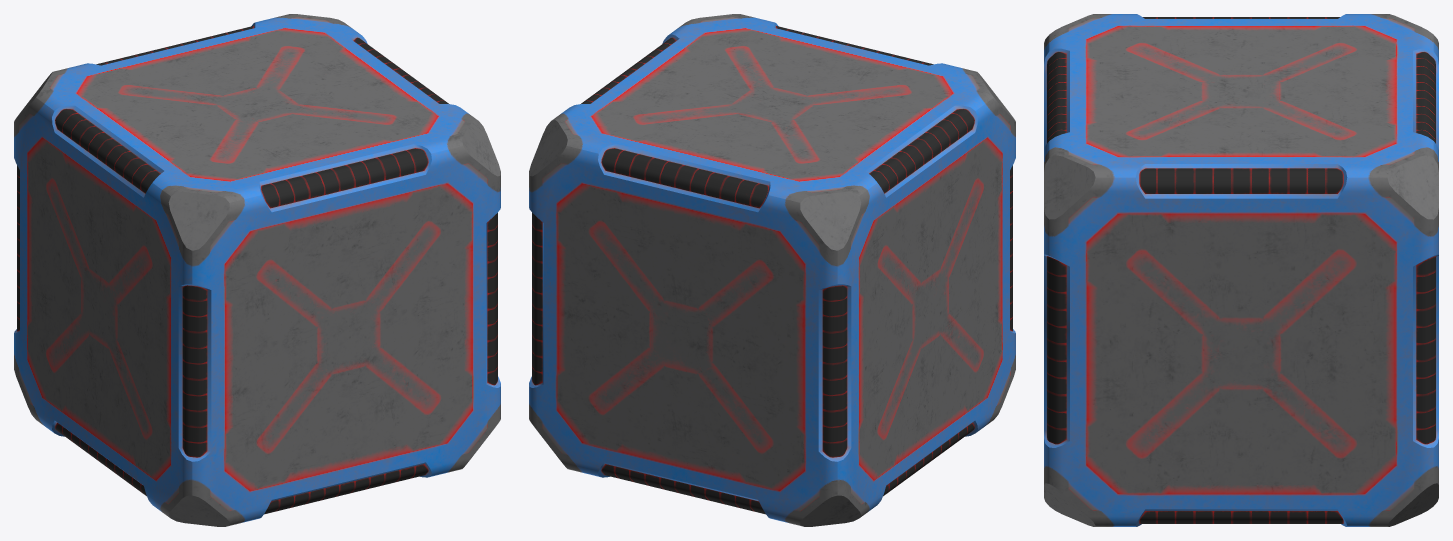
The model's file is sci-fi_box_small.glb.
The picture shows the model from 3 angles, left to right: view 1: azimuth 30°, elevation 25°; view 2: azimuth 150°, elevation 25°; view 3: azimuth 270°, elevation 25°; orthographic projection. The views are drawn at different scales.
Parts seen in each view (by area): view 1: Object_2; view 2: Object_2; view 3: Object_2.
Part boxes in pixels (box(x1,y1,x2,y2)): Object_2: box(14, 14, 500, 526); Object_2: box(529, 14, 1015, 526); Object_2: box(1044, 14, 1438, 526).
Size of the model in its own units: 2 by 2 by 2.
1 material, 1 textured.
